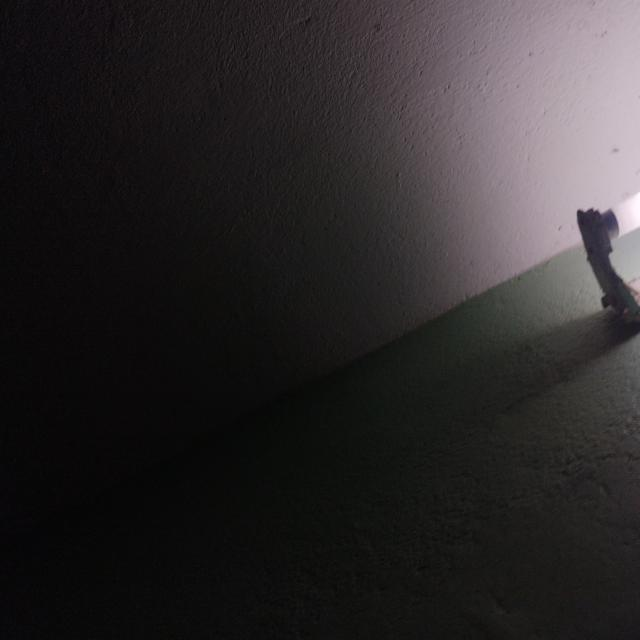tubelight_on: (573, 186, 640, 345)
